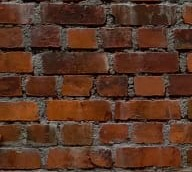brick: (41, 52, 110, 75), (113, 51, 181, 73), (49, 149, 114, 172), (41, 4, 106, 26), (44, 100, 112, 121), (118, 147, 183, 168), (114, 101, 184, 120), (112, 6, 177, 26), (1, 99, 41, 122), (132, 122, 168, 145), (95, 76, 129, 99), (61, 124, 96, 146), (1, 151, 43, 169), (1, 51, 35, 73), (30, 27, 64, 48), (133, 76, 167, 97), (67, 28, 99, 50), (26, 76, 58, 98), (99, 123, 131, 145), (28, 124, 59, 146), (137, 28, 169, 49), (1, 4, 34, 24), (102, 28, 133, 48), (64, 76, 92, 97), (1, 26, 27, 48), (168, 76, 192, 97), (1, 124, 24, 145), (171, 122, 192, 143), (1, 76, 23, 96), (173, 28, 192, 50)
